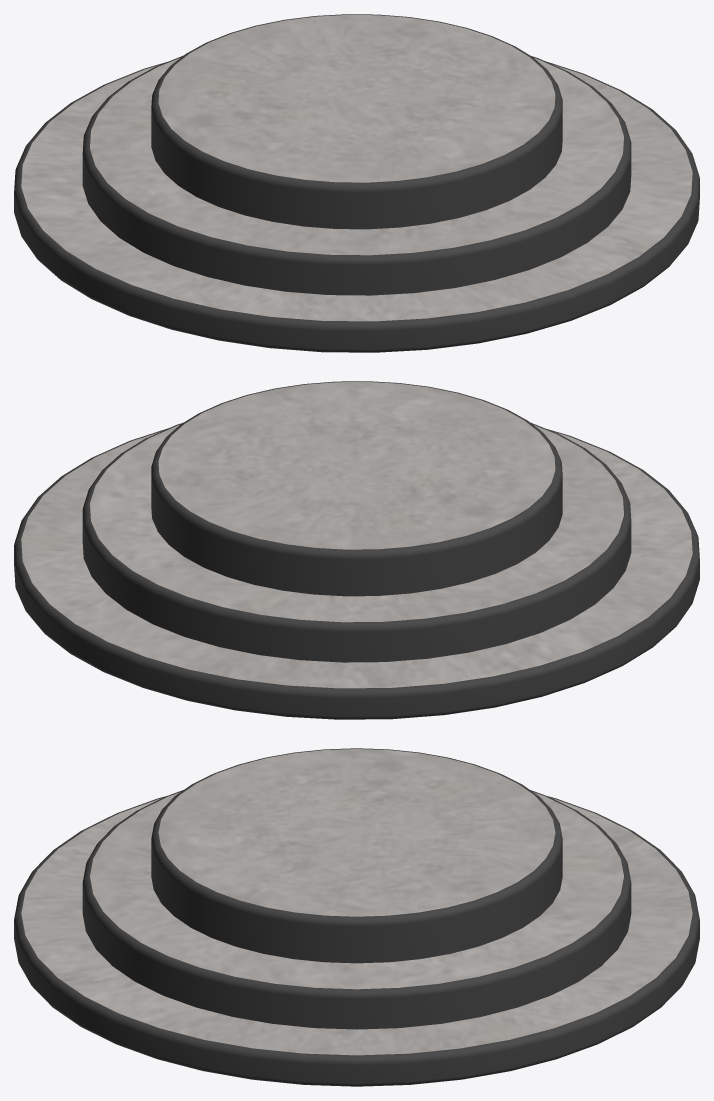
The model's file is stage.fbx.
3 renders of one model, top to bottom at view 1: azimuth 30°, elevation 25°; view 2: azimuth 150°, elevation 25°; view 3: azimuth 270°, elevation 25°, orthographic.
Parts seen in each view (by area): view 1: pCylinder1; view 2: pCylinder1; view 3: pCylinder1.
Part boxes in pixels (x1,y1,x2,y2): pCylinder1: (14, 14, 699, 352); pCylinder1: (14, 381, 699, 719); pCylinder1: (14, 748, 699, 1086).
Size of the model in its own units: 14.13 by 3.36 by 14.13.
